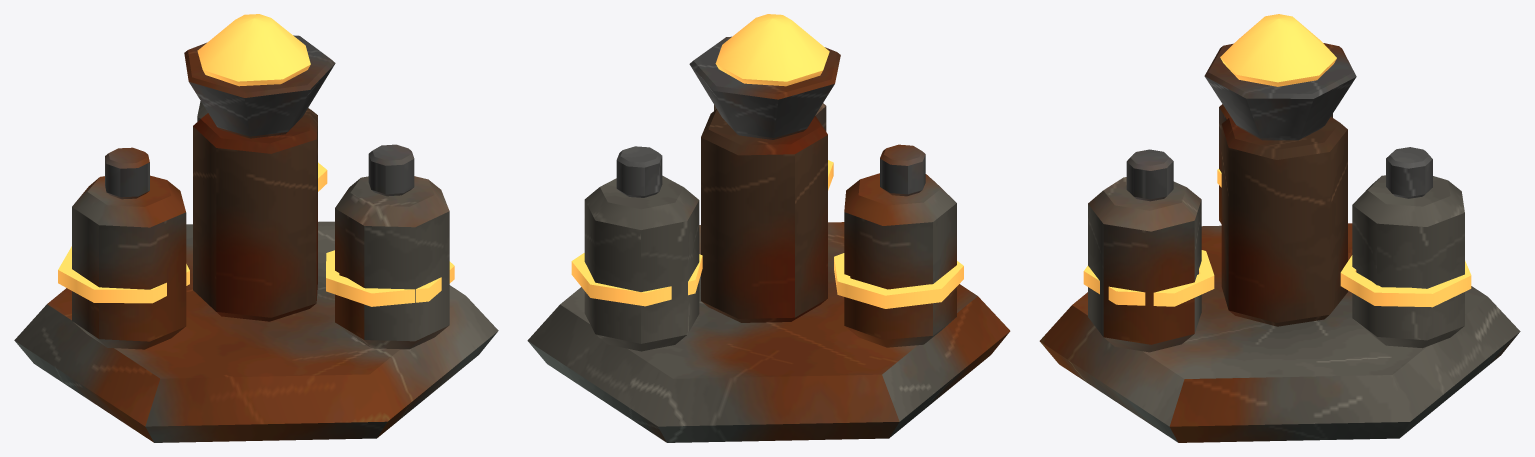
Rendered from R4D_BurnTrap_LOD1.glb.
The picture shows the model from 3 angles, left to right: view 1: azimuth 30°, elevation 25°; view 2: azimuth 150°, elevation 25°; view 3: azimuth 270°, elevation 25°; orthographic projection.
Visible parts, largest first — view 1: R4D_BurnTrap_LOD1; view 2: R4D_BurnTrap_LOD1; view 3: R4D_BurnTrap_LOD1.
Boxes of the visible parts, bbox=[...] form: R4D_BurnTrap_LOD1: bbox=[14, 14, 498, 442]; R4D_BurnTrap_LOD1: bbox=[527, 14, 1010, 442]; R4D_BurnTrap_LOD1: bbox=[1039, 14, 1520, 442].
Bounding box in the file's own units: 0.3288 × 0.288 × 0.3696.
Materials: 5 (4 with a texture image).
